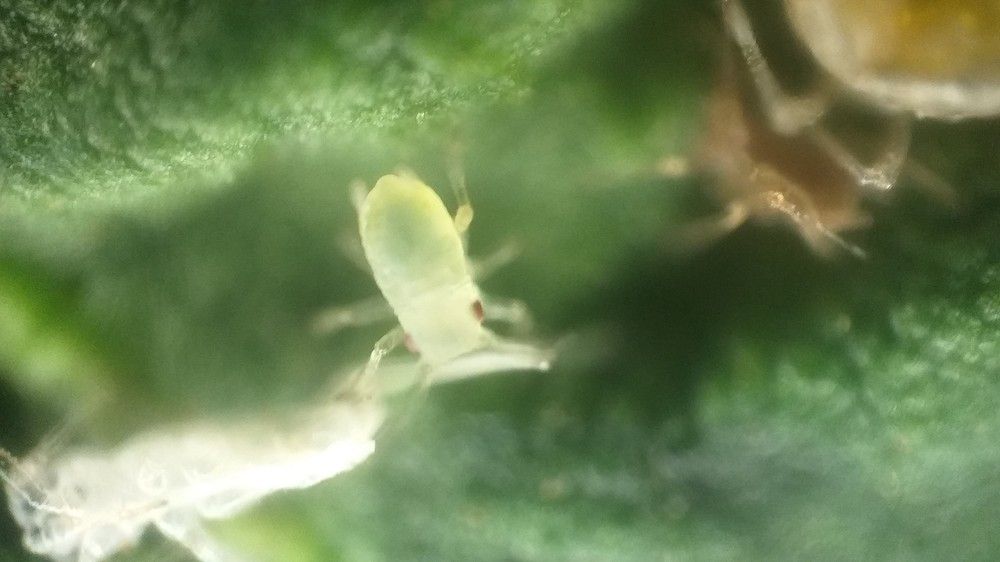Pulgon: (288, 136, 601, 423)
